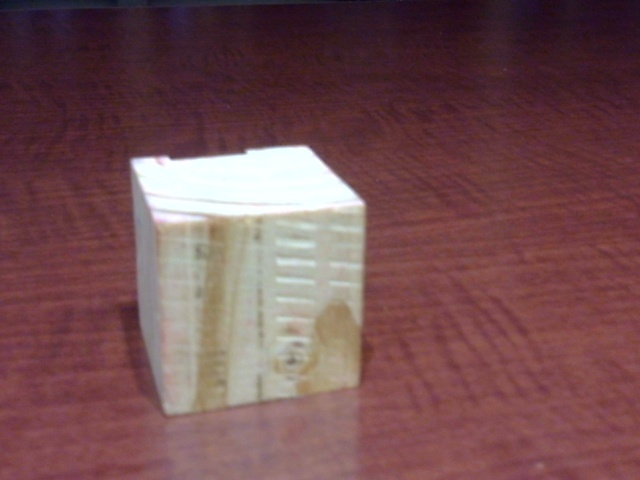NormalBlock: (156, 202, 368, 411)
